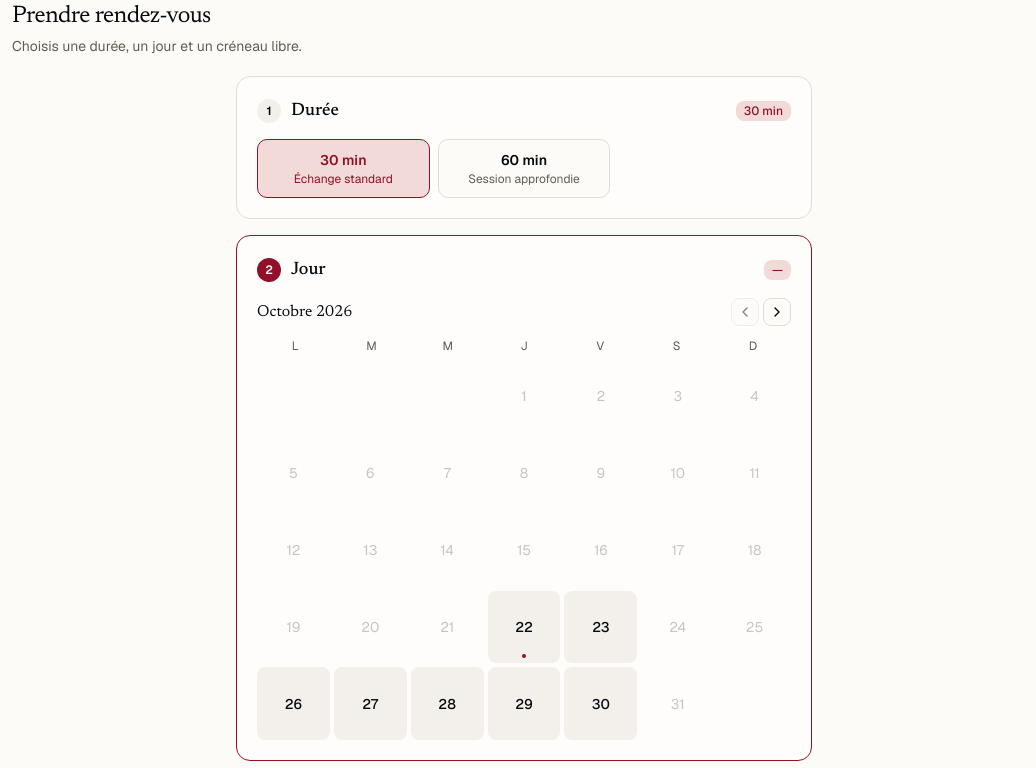
Test: BookingWidget › gère le calendrier (aria-label, aujourd'hui, navigation dans la fenêtre) et désélectionne un jour devenu sans créneau au changement de durée
Expected: the button named "Mois précédent" is disabled, top-left (731, 298), bottom-right (759, 326)
Expected: the button named "Mois suivant" is enabled, top-left (763, 298), bottom-right (791, 326)
Click the button named "vendredi 23 octobre, 1 créneau".
click(601, 627)  # box top-left (564, 591), bottom-right (637, 664)
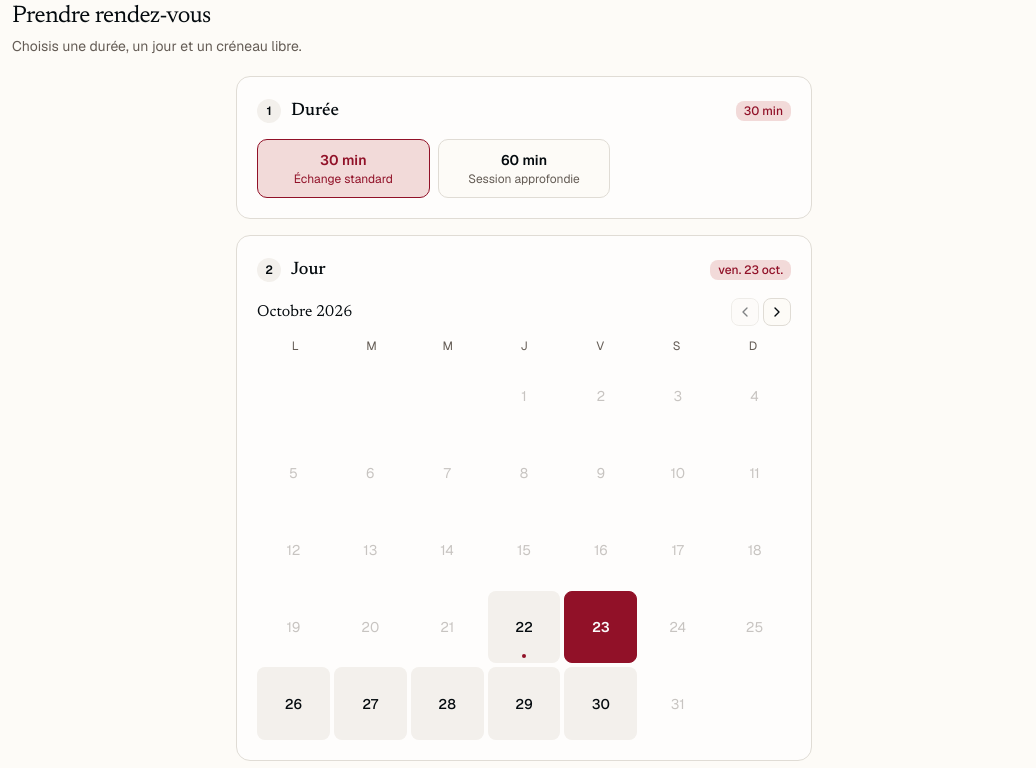
Now the button named "vendredi 23 octobre, 1 créneau" is pressed, box top-left (564, 591), bottom-right (637, 664)
Click the button "60 min Session approfondie".
click(524, 168)  # box top-left (438, 139), bottom-right (610, 198)
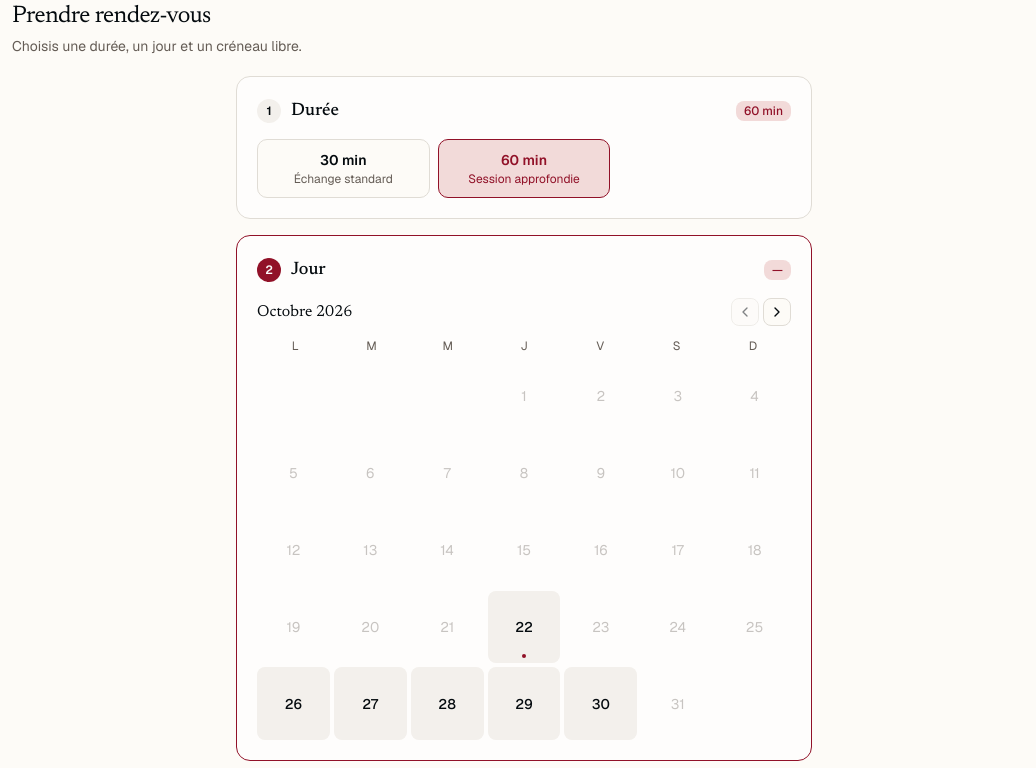
Now the button named "vendredi 23 octobre" is disabled, box top-left (564, 591), bottom-right (637, 664)
